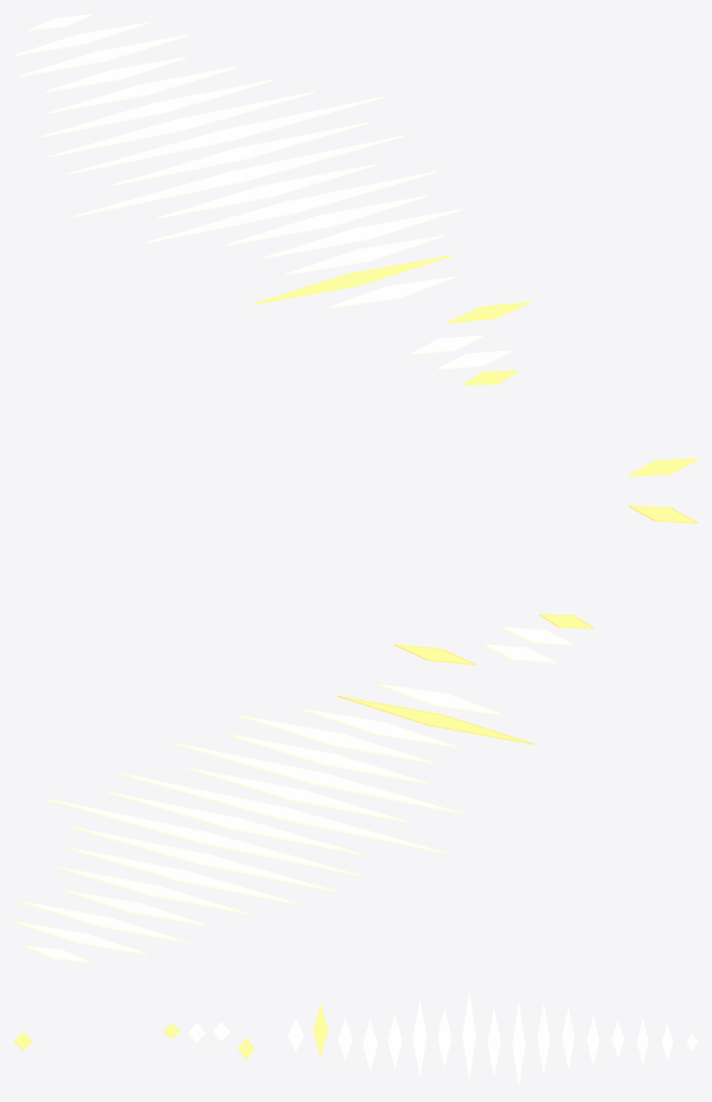
Rendered from gold_streak.glb.
The picture shows the model from 3 angles, top to bottom: view 1: azimuth 30°, elevation 25°; view 2: azimuth 150°, elevation 25°; view 3: azimuth 270°, elevation 25°; orthographic projection. The views are drawn at different scales.
Parts seen in each view (by area): view 1: kindle_glow_horn70, ember_glow_horn45; view 2: kindle_glow_horn70, ember_glow_horn45; view 3: kindle_glow_horn70, ember_glow_horn45.
Part boxes in pixels (x1=…): kindle_glow_horn70: x1=14, y1=14, x2=511, y2=369; ember_glow_horn45: x1=253, y1=255, x2=697, y2=476; kindle_glow_horn70: x1=14, y1=626, x2=574, y2=962; ember_glow_horn45: x1=337, y1=505, x2=697, y2=744; kindle_glow_horn70: x1=188, y1=992, x2=697, y2=1086; ember_glow_horn45: x1=14, y1=1004, x2=328, y2=1060.
Bounding box in the file's own units: 2.4 × 0.01 × 7.26.
